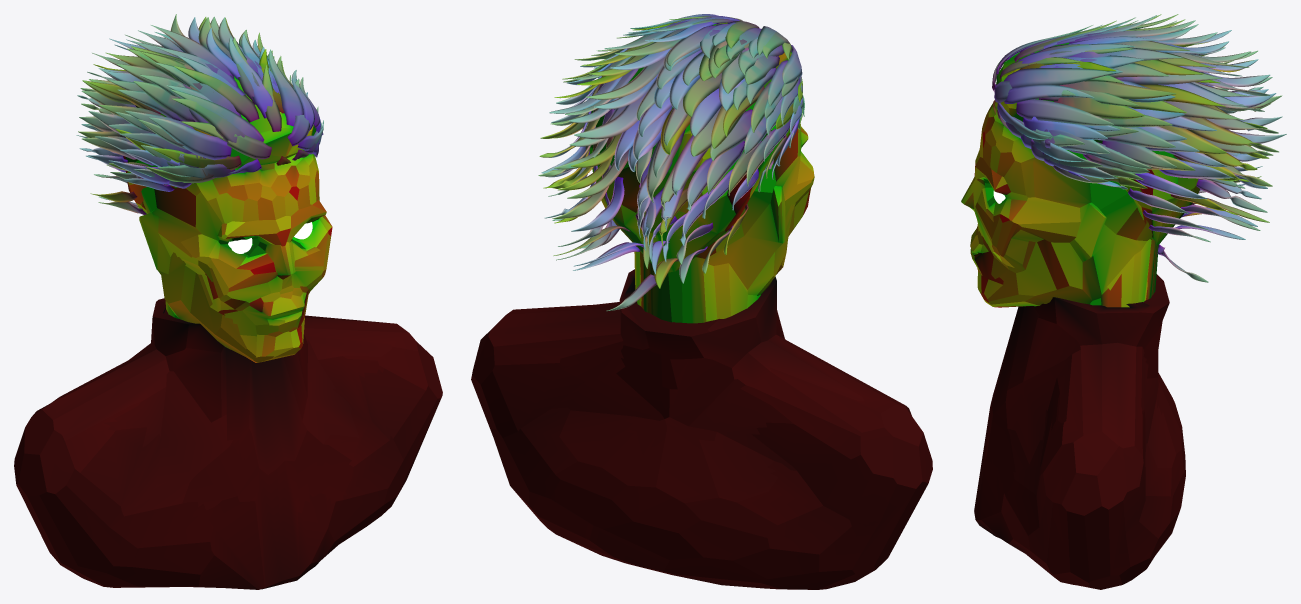
The model's file is head.glb.
The picture shows the model from 3 angles, left to right: view 1: azimuth 30°, elevation 25°; view 2: azimuth 150°, elevation 25°; view 3: azimuth 270°, elevation 25°; orthographic projection. The views are drawn at different scales.
Parts seen in each view (by area): view 1: Sweater, Hair, Face, HairCap; view 2: Sweater, Hair, Face, HairCap; view 3: Sweater, Hair, Face, HairCap.
Boxes of the visible parts, box(x1,y1,x2,y2) form: Sweater: box(14, 298, 442, 589); Hair: box(76, 14, 323, 214); Face: box(139, 154, 332, 362); HairCap: box(123, 76, 316, 213); Sweater: box(471, 269, 932, 589); Hair: box(538, 14, 804, 311); Face: box(634, 124, 814, 323); HairCap: box(589, 22, 791, 273); Sweater: box(974, 274, 1185, 589); Hair: box(992, 14, 1286, 282); Face: box(961, 103, 1158, 307); HairCap: box(994, 42, 1202, 245).
Size of the model in its own units: 43.35 by 49.21 by 29.49.
